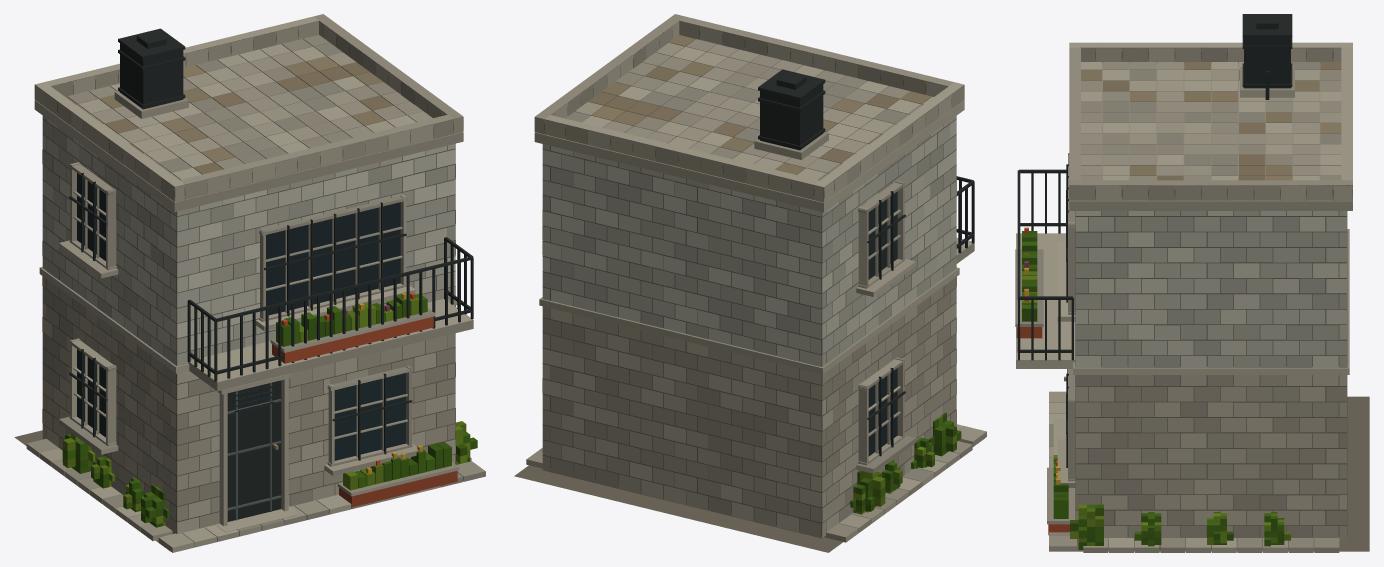
File: SM_Mapa_075.fbx
The picture shows the model from 3 angles, left to right: view 1: azimuth 30°, elevation 25°; view 2: azimuth 150°, elevation 25°; view 3: azimuth 270°, elevation 25°; orthographic projection.
Parts seen in each view (by area): view 1: SM_Mapa_075; view 2: SM_Mapa_075; view 3: SM_Mapa_075.
Part boxes in pixels (x1,y1,x2,y2): SM_Mapa_075: [14, 14, 485, 552]; SM_Mapa_075: [514, 14, 986, 552]; SM_Mapa_075: [1015, 14, 1369, 552].
Size of the model in its own units: 8 by 7.51 by 9.85.
